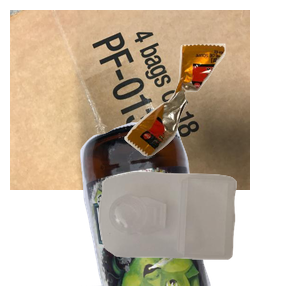cardboard: (10, 10, 250, 190)
glass: (78, 120, 281, 300)
plastic: (96, 169, 300, 300)
trash: (122, 41, 300, 190)
